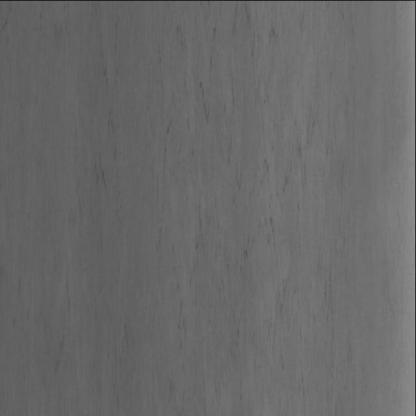silk_spot: (24, 0, 328, 361)
